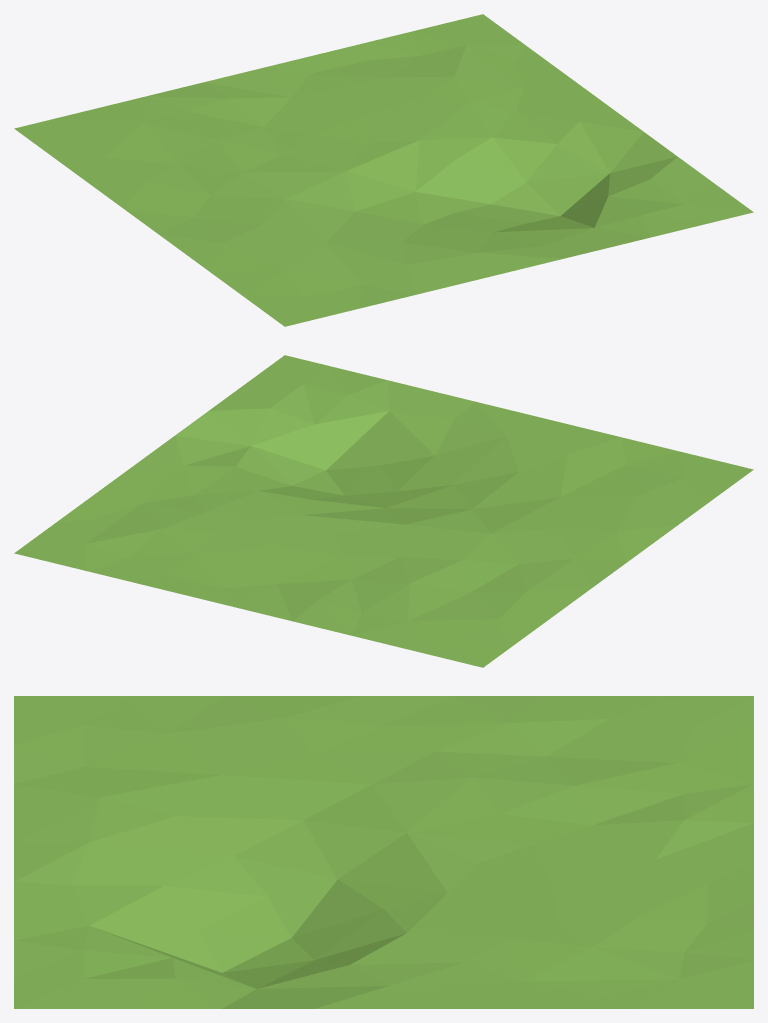
File: MT_Terrain_S_b_09.fbx
3 views of the same model, one above another, from view 1: azimuth 30°, elevation 25°; view 2: azimuth 150°, elevation 25°; view 3: azimuth 270°, elevation 25° (orthographic). The views are drawn at different scales.
Visible parts, largest first — view 1: MT_Terrain_S_b_09; view 2: MT_Terrain_S_b_09; view 3: MT_Terrain_S_b_09.
Boxes of the visible parts, x1,y1,x2,y2 form: MT_Terrain_S_b_09: (14,14,753,326); MT_Terrain_S_b_09: (14,355,753,667); MT_Terrain_S_b_09: (14,696,753,1008).
Bounding box in the file's own units: 2500 × 169 × 2500.
